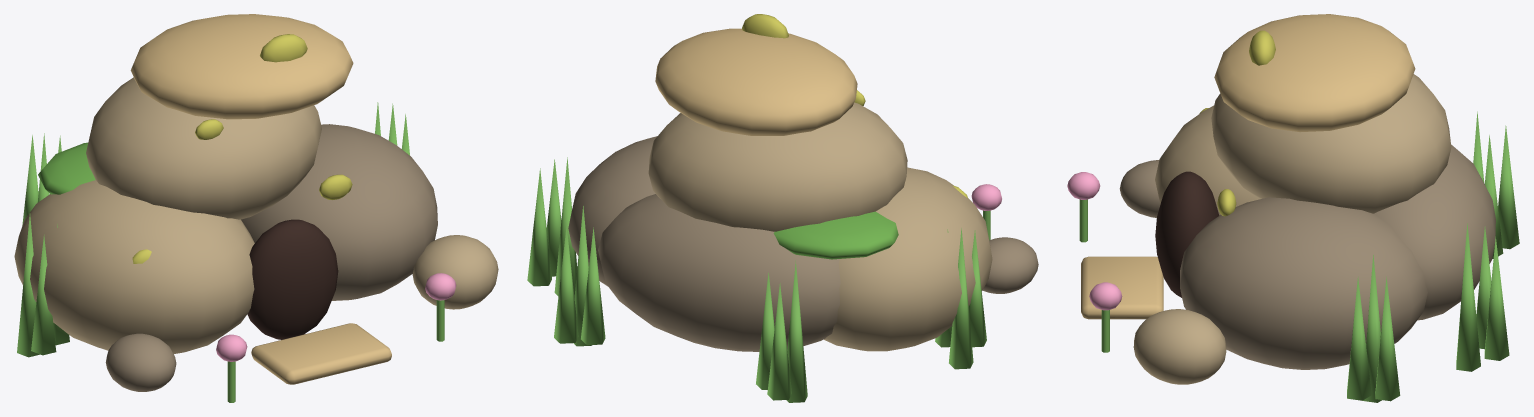
File: rock-pile.glb
3 views of the same model, side by side, from view 1: azimuth 30°, elevation 25°; view 2: azimuth 150°, elevation 25°; view 3: azimuth 270°, elevation 25° (orthographic). The views are drawn at different scales.
Parts seen in each view (by area): view 1: ROCK PILE · base left stone, ROCK PILE · middle stone, ROCK PILE · base right stone, ROCK PILE · cap stone, ROCK PILE · crevice, ROCK PILE · threshold slab, ROCK PILE · side pebble stone, ROCK PILE · front pebble stone, ROCK PILE · moss collar, ROCK PILE · grass 0-1, ROCK PILE · grass 0-2, ROCK PILE · lichen 2 (+5 smaller); view 2: ROCK PILE · base back stone, ROCK PILE · middle stone, ROCK PILE · base left stone, ROCK PILE · cap stone, ROCK PILE · base right stone, ROCK PILE · moss collar, ROCK PILE · front pebble stone, ROCK PILE · grass 0-1, ROCK PILE · grass 2-1, ROCK PILE · grass 3-2, ROCK PILE · grass 1-0, ROCK PILE · grass 2-0 (+8 smaller); view 3: ROCK PILE · base right stone, ROCK PILE · middle stone, ROCK PILE · cap stone, ROCK PILE · base back stone, ROCK PILE · side pebble stone, ROCK PILE · crevice, ROCK PILE · threshold slab, ROCK PILE · base left stone, ROCK PILE · grass 3-1, ROCK PILE · front pebble stone, ROCK PILE · grass 3-2, ROCK PILE · grass 1-0 (+9 smaller).
Boxes of the visible parts, x1,y1,x2,y2 form: ROCK PILE · base left stone: (14,180,254,353); ROCK PILE · middle stone: (86,77,321,219); ROCK PILE · base right stone: (241,124,437,300); ROCK PILE · cap stone: (130,14,353,119); ROCK PILE · crevice: (247,219,338,339); ROCK PILE · threshold slab: (251,323,391,384); ROCK PILE · side pebble stone: (412,235,498,309); ROCK PILE · front pebble stone: (105,333,176,391); ROCK PILE · moss collar: (38,142,95,194); ROCK PILE · grass 0-1: (17,213,39,357); ROCK PILE · grass 0-2: (31,234,56,355); ROCK PILE · lichen 2: (260,34,307,62); ROCK PILE · base back stone: (598,194,840,351); ROCK PILE · middle stone: (648,102,907,231); ROCK PILE · base left stone: (824,167,992,351); ROCK PILE · cap stone: (655,28,857,135); ROCK PILE · base right stone: (568,136,657,286); ROCK PILE · moss collar: (773,211,898,259); ROCK PILE · front pebble stone: (982,237,1038,293); ROCK PILE · grass 0-1: (949,228,973,369); ROCK PILE · grass 2-1: (786,260,807,402); ROCK PILE · grass 3-2: (554,226,578,343); ROCK PILE · grass 1-0: (527,168,551,286); ROCK PILE · grass 2-0: (767,283,791,400); ROCK PILE · base right stone: (1180,197,1427,369); ROCK PILE · middle stone: (1211,74,1451,213); ROCK PILE · cap stone: (1214,14,1415,132); ROCK PILE · base back stone: (1374,144,1495,320); ROCK PILE · side pebble stone: (1133,309,1226,384); ROCK PILE · crevice: (1155,171,1219,297); ROCK PILE · threshold slab: (1081,256,1163,319); ROCK PILE · base left stone: (1155,105,1260,215); ROCK PILE · grass 3-1: (1456,223,1480,371); ROCK PILE · front pebble stone: (1119,160,1160,217); ROCK PILE · grass 3-2: (1484,236,1509,360); ROCK PILE · grass 1-0: (1375,276,1400,401).
Size of the model in its own units: 1.81 by 1.17 by 1.64.
